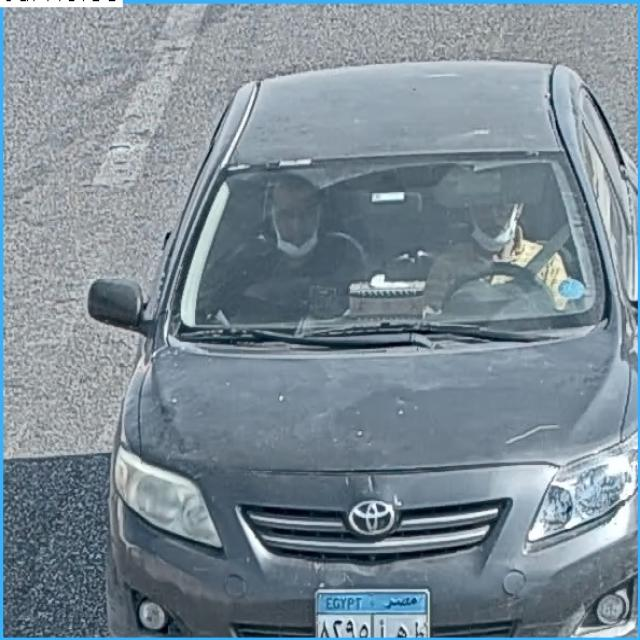windshield: (173, 158, 597, 327)
